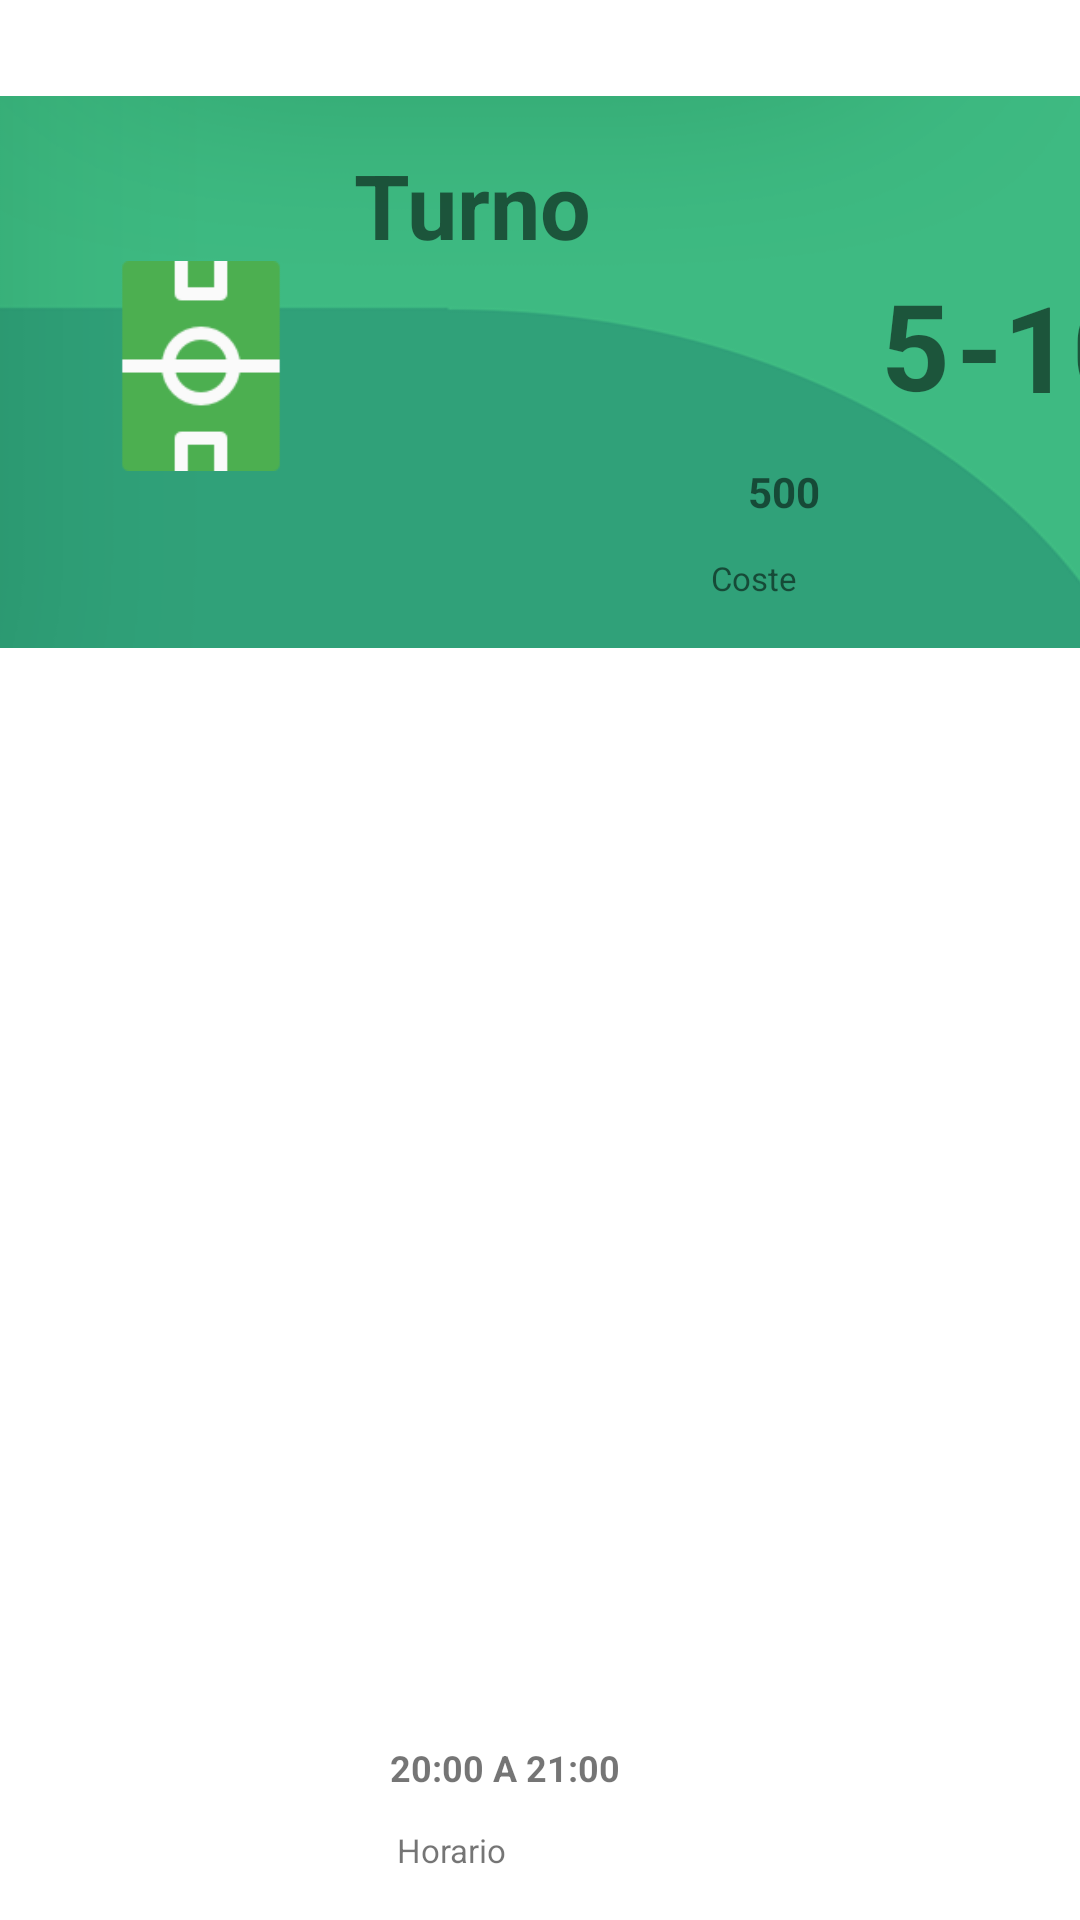

Point at icon controls on the screen. Image size 1080 x 1920, points as [x,y].
campo: [201,366]
